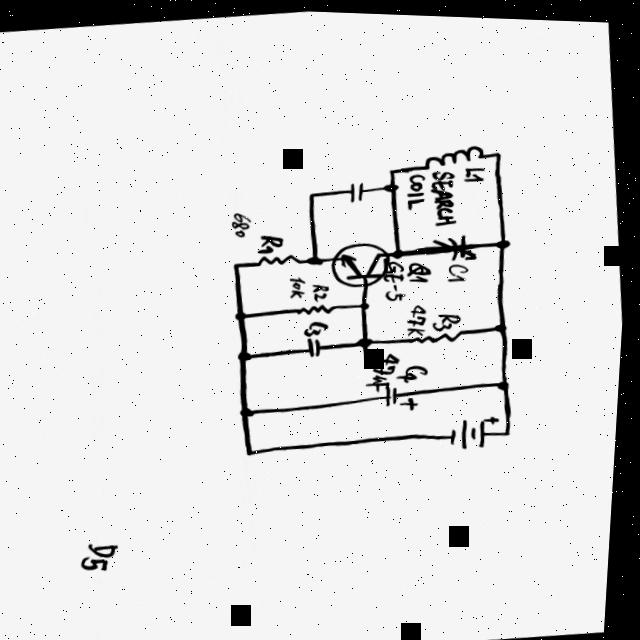capacitor: (387, 381, 422, 409), (348, 177, 368, 202), (310, 335, 326, 356)
diode: (433, 230, 479, 258)
inductor: (423, 141, 486, 166)
junction: (359, 333, 376, 346), (242, 404, 258, 416), (309, 252, 325, 264), (496, 318, 512, 330), (392, 245, 407, 257), (239, 348, 255, 359), (497, 235, 512, 246), (384, 179, 400, 189), (236, 308, 250, 319), (500, 376, 514, 387), (359, 298, 373, 308), (248, 445, 260, 455), (307, 188, 319, 197), (493, 147, 504, 155), (233, 260, 242, 267), (506, 426, 515, 433), (389, 165, 397, 172)
resistor: (413, 326, 468, 343), (257, 251, 301, 265), (298, 300, 338, 315)
source: (448, 410, 505, 448)
text: (430, 166, 460, 224), (367, 348, 405, 389), (85, 540, 126, 573), (383, 256, 413, 301), (404, 170, 428, 207), (406, 301, 431, 333), (231, 209, 255, 239), (433, 308, 464, 329), (403, 360, 433, 381), (408, 257, 434, 281), (447, 258, 473, 281), (259, 230, 286, 252), (290, 273, 309, 298), (306, 318, 332, 336), (463, 162, 487, 180), (312, 279, 333, 299)
transistor: (332, 237, 392, 287)
